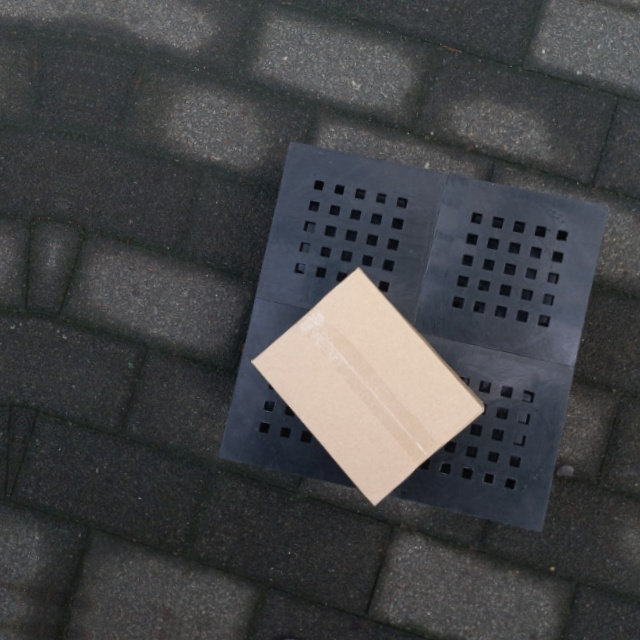box: (245, 261, 484, 514)
pallet: (214, 133, 616, 539)
